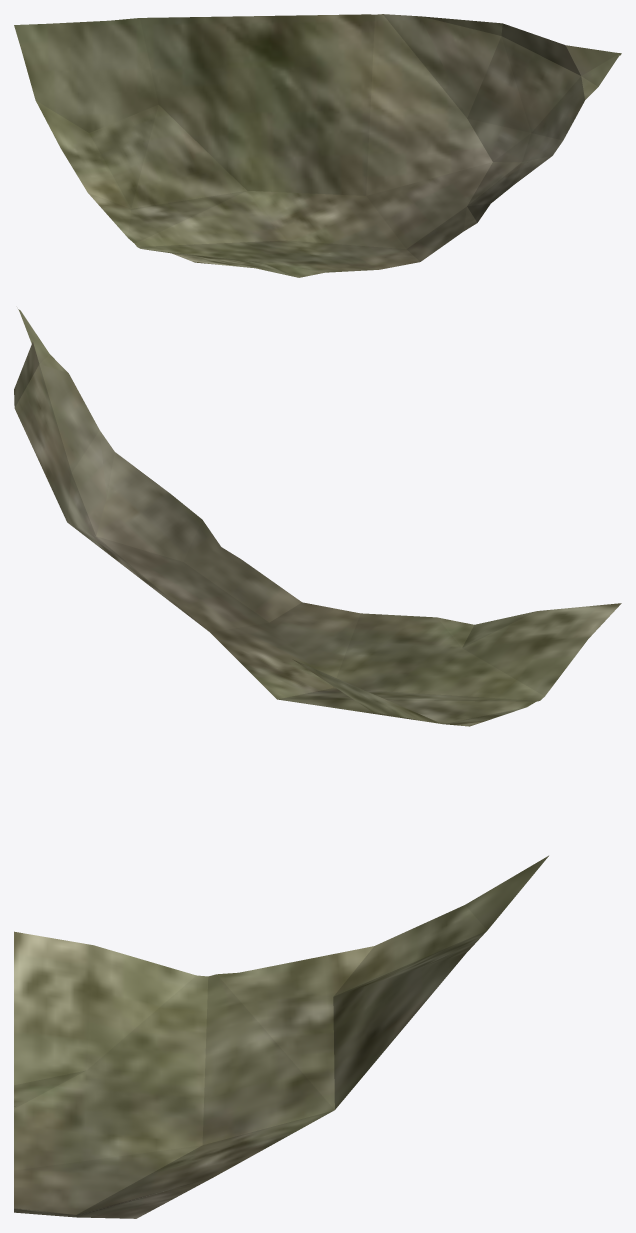
3 renders of one model, top to bottom at view 1: azimuth 30°, elevation 25°; view 2: azimuth 150°, elevation 25°; view 3: azimuth 270°, elevation 25°, orthographic. The views are drawn at different scales.
Size of the model in its own units: 1.99 by 0.7205 by 1.46.
1 material, 1 textured.
